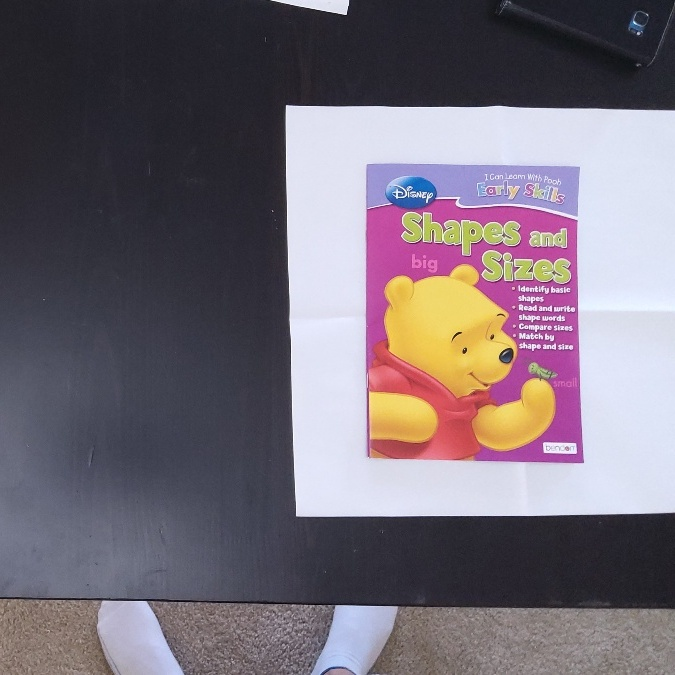book: (367, 167, 582, 463)
